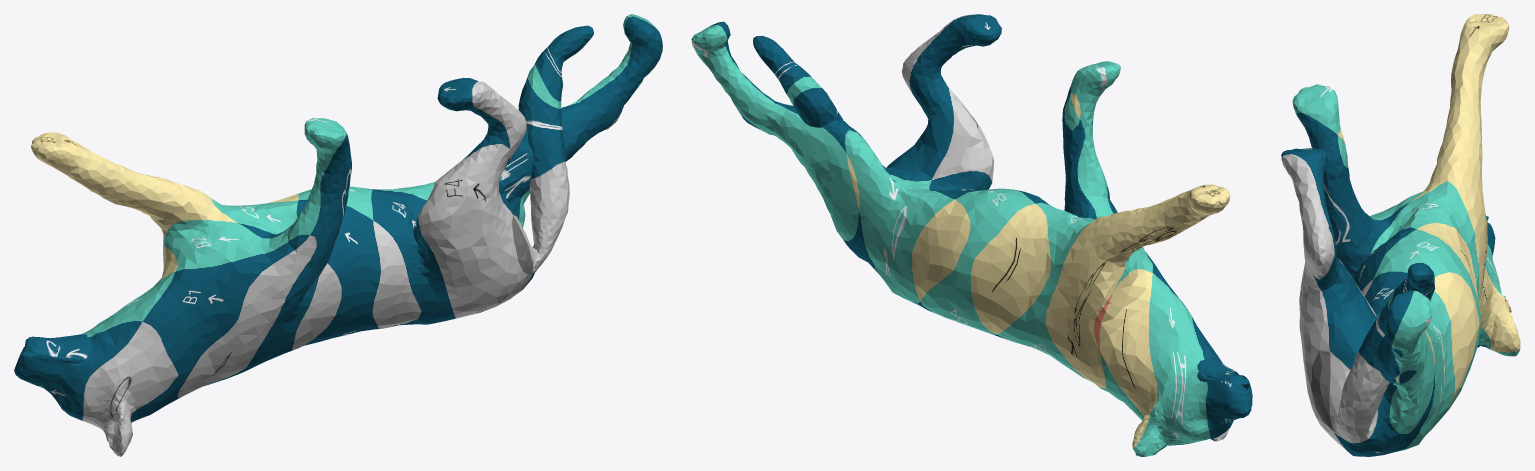
Rendered from lion_02-dog_08.obj.
3 renders of one model, left to right at view 1: azimuth 30°, elevation 25°; view 2: azimuth 150°, elevation 25°; view 3: azimuth 270°, elevation 25°, orthographic. The views are drawn at different scales.
Visible parts, largest first — view 1: lion_02-dog_08_export; view 2: lion_02-dog_08_export; view 3: lion_02-dog_08_export.
Boxes of the visible parts, x1,y1,x2,y2 form: lion_02-dog_08_export: [14, 14, 662, 456]; lion_02-dog_08_export: [691, 14, 1252, 456]; lion_02-dog_08_export: [1281, 14, 1520, 456].
Bounding box in the file's own units: 1.17 × 0.611 × 0.3694.
